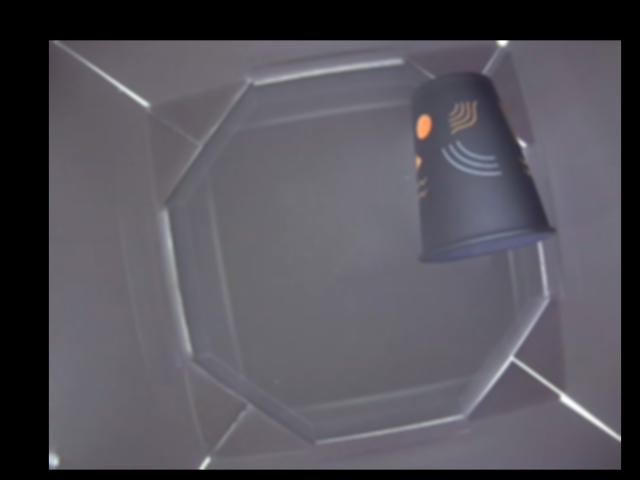Cup: (407, 70, 554, 267)
